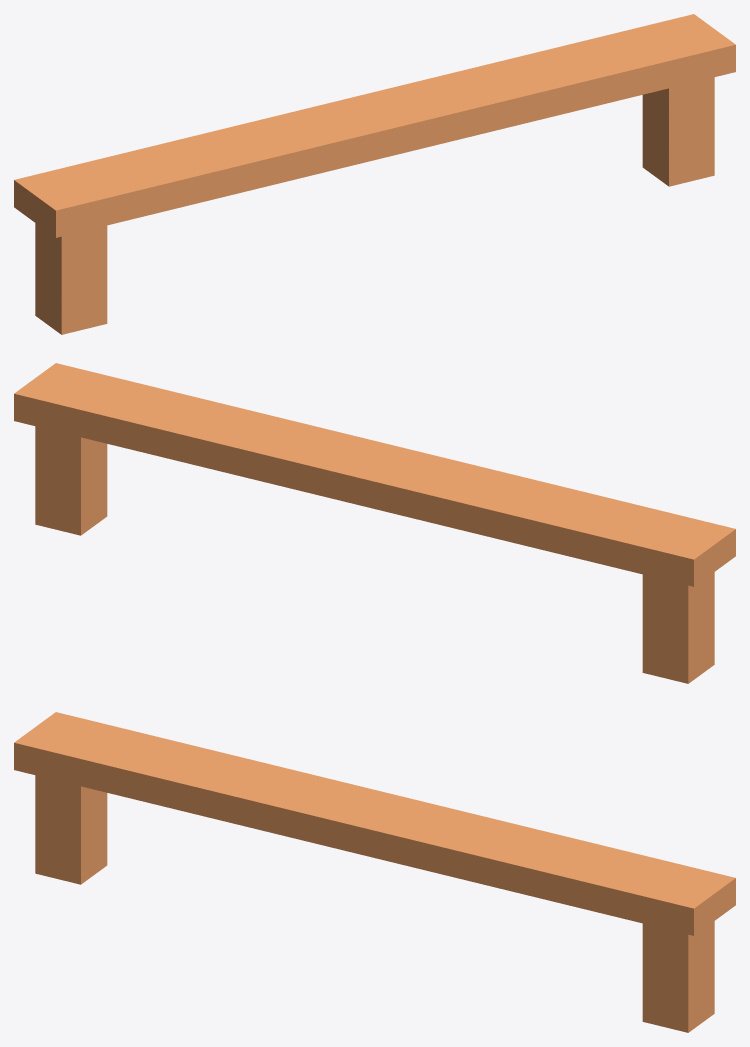
The model's file is fence_simpleLow.obj.
3 renders of one model, top to bottom at view 1: azimuth 30°, elevation 25°; view 2: azimuth 150°, elevation 25°; view 3: azimuth 330°, elevation 25°, orthographic.
Parts seen in each view (by area): view 1: fence_simpleLow; view 2: fence_simpleLow; view 3: fence_simpleLow.
Boxes of the visible parts, x1,y1,x2,y2 form: fence_simpleLow: (14,14,735,334); fence_simpleLow: (14,363,735,683); fence_simpleLow: (14,712,735,1032).
Bounding box in the file's own units: 10.41 × 1.95 × 1.11.
